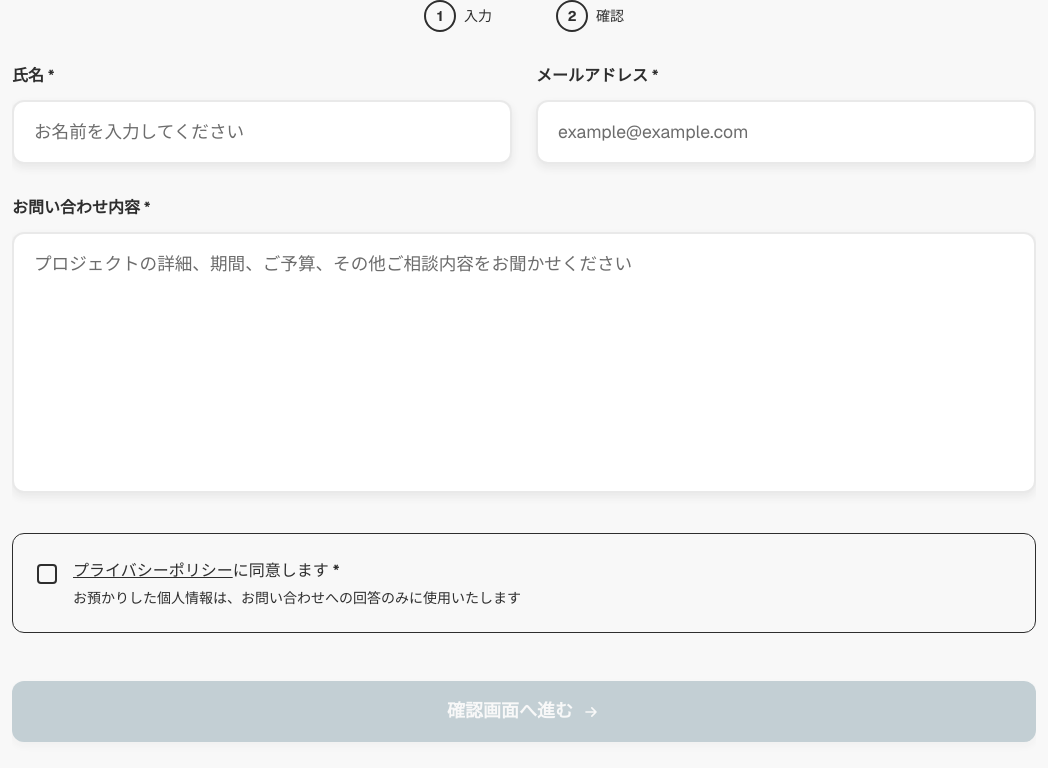
Test case: ContactForm › 送信中はボタンが無効化される
This screenshot has width=1048, height=768.
Type "山田太郎" into the field labelled "氏名 *" at (262, 132), box [12, 100, 512, 164]
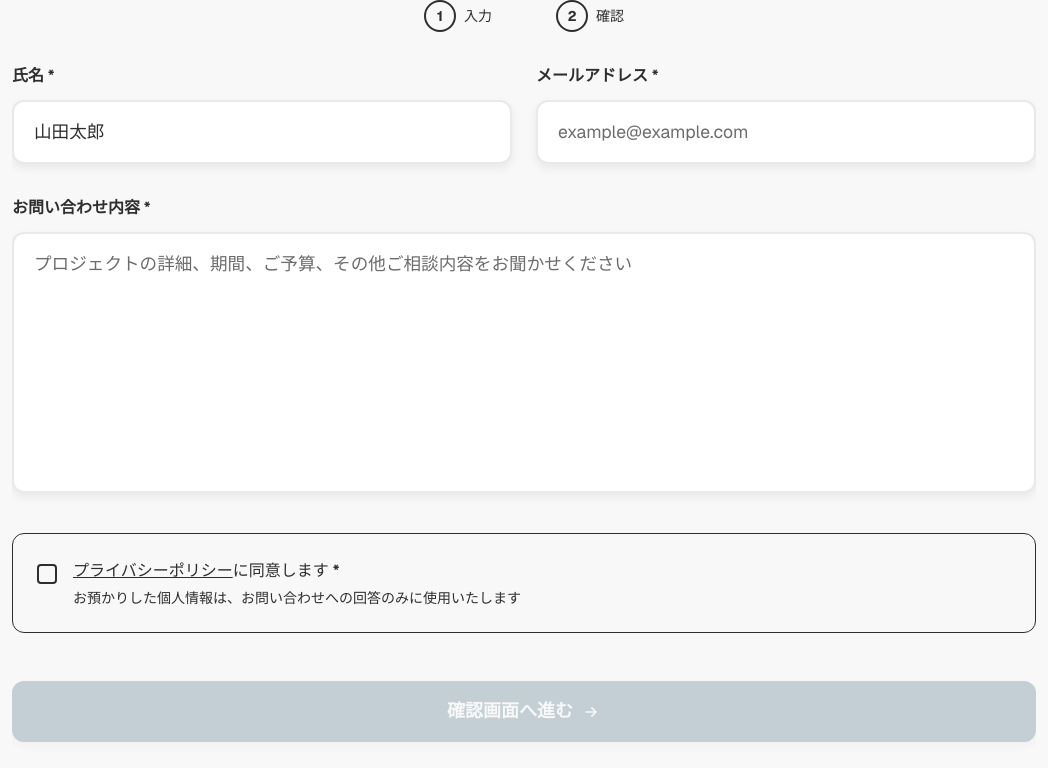
Type "yamada@example.com" into the field labelled "メールアドレス *" at (786, 132), box [536, 100, 1036, 164]
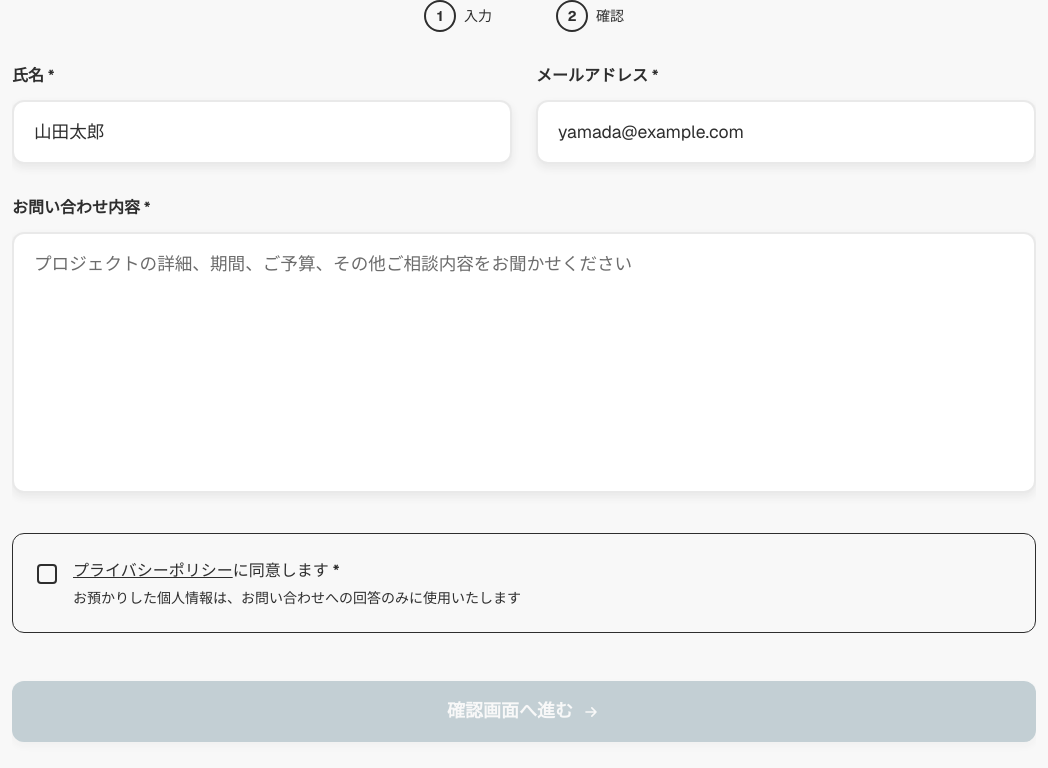
Type "お問い合わせ内容です" into the text box labelled "お問い合わせ内容 *" at (524, 363), box [12, 232, 1036, 493]
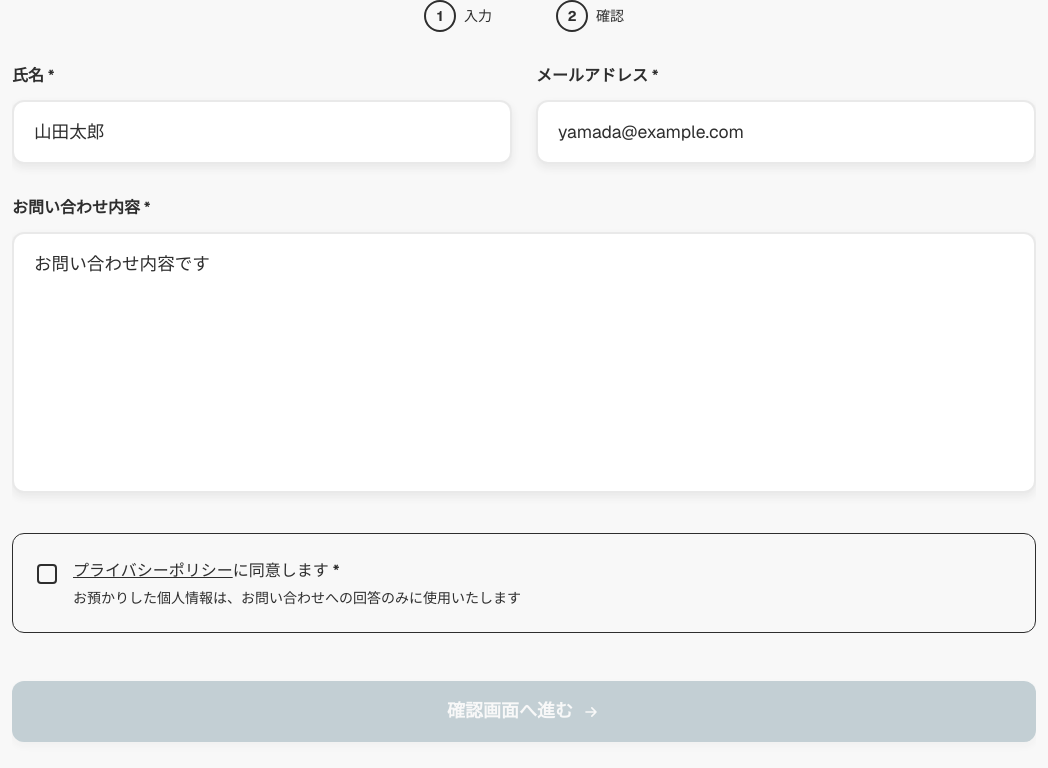
Click the checkbox at (297, 583), box [73, 558, 521, 608]
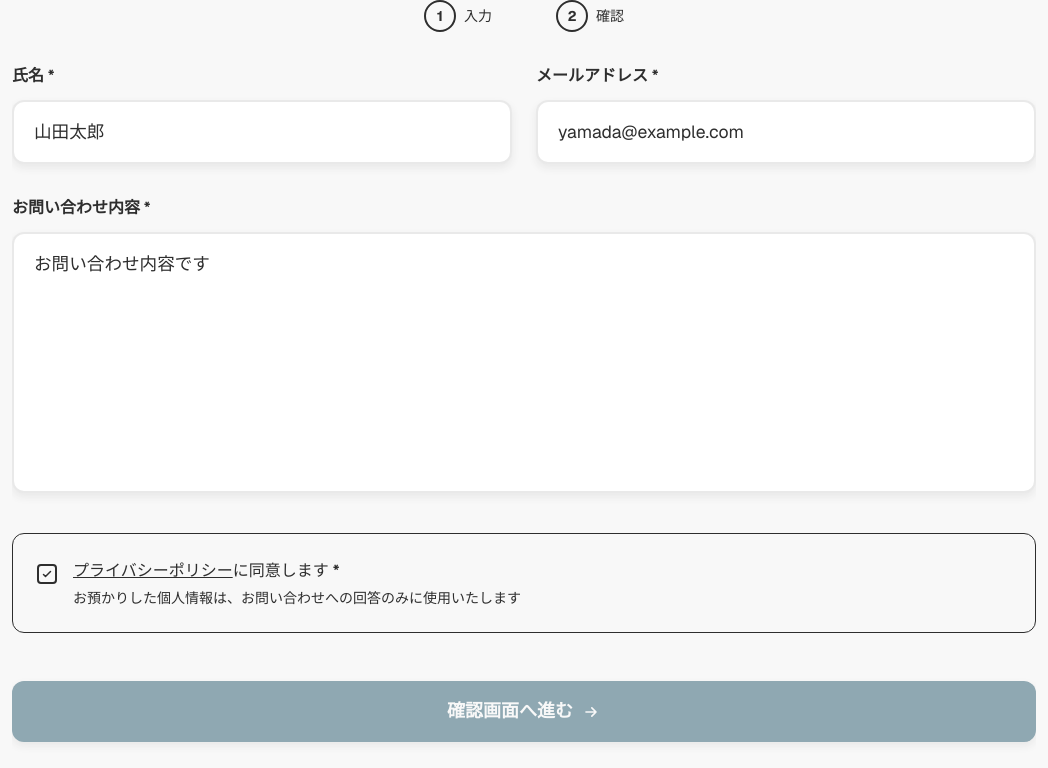
Click the button "確認画面へ進む" at (524, 711), box [12, 681, 1036, 742]
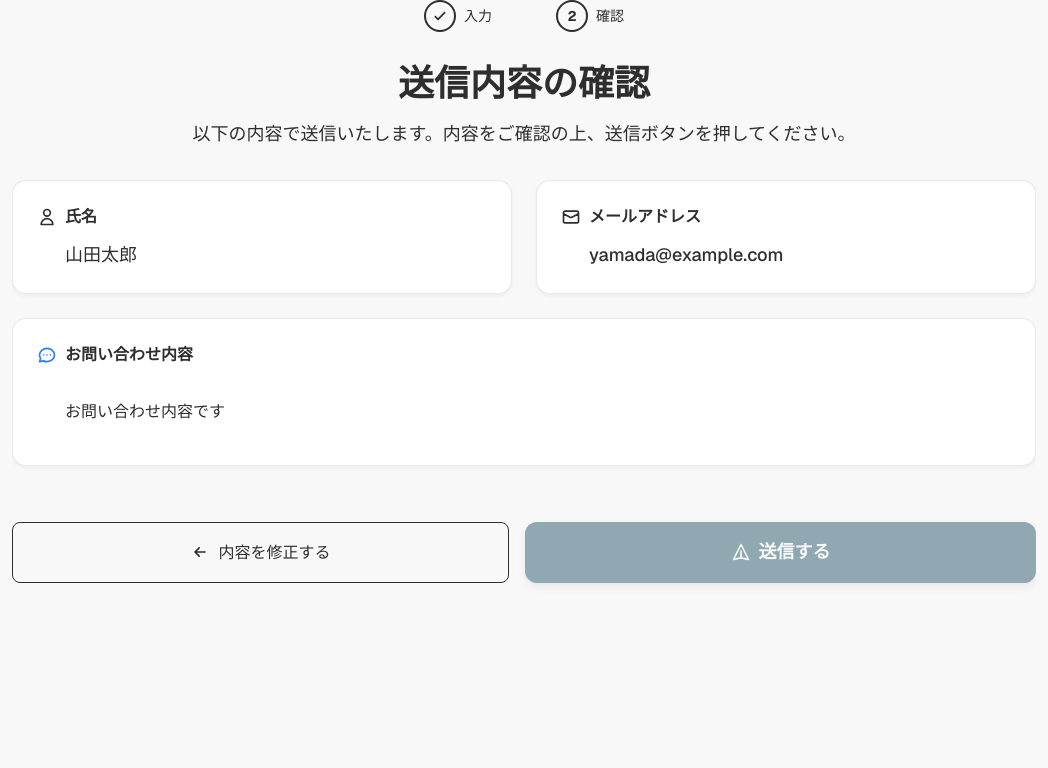
Check: the heading "送信内容の確認" is shown, box [398, 60, 650, 107]
